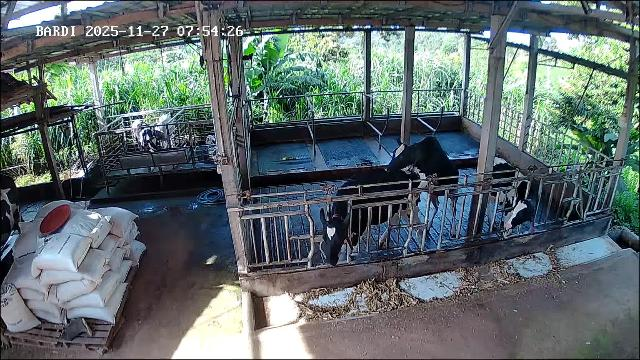mounting: (387, 136, 460, 231)
